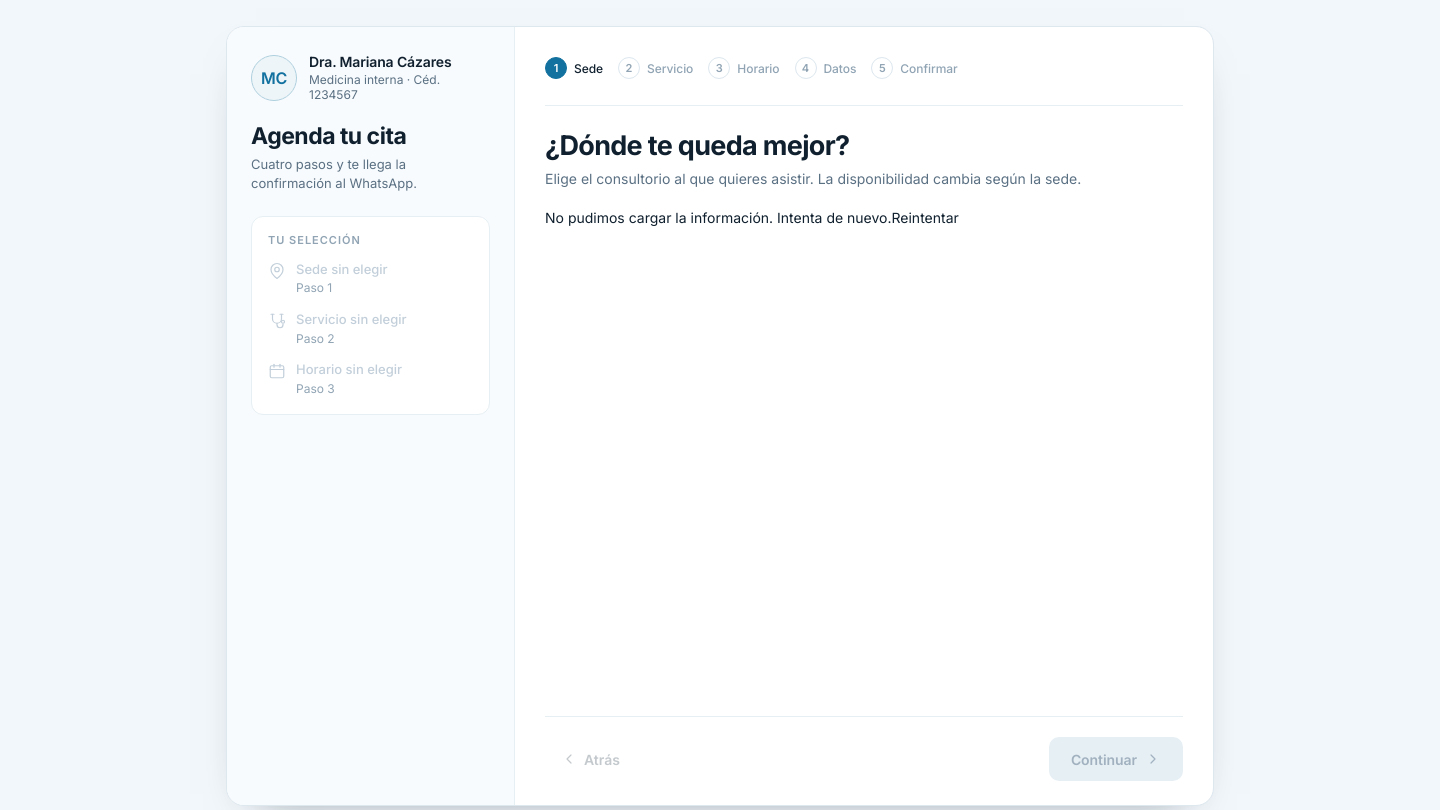
Test: BookingFlow › keeps selection empty after a load error and applies the default after retry
The image size is (1440, 810).
Expected: the message "No pudimos cargar la información. Intenta de nuevo. Reintentar" is shown, [545,209,959,226]
Expected: the button "Continuar" is disabled, [1049,737,1183,781]
Click the button "Reintentar": point(925, 218) [892,209,959,226]
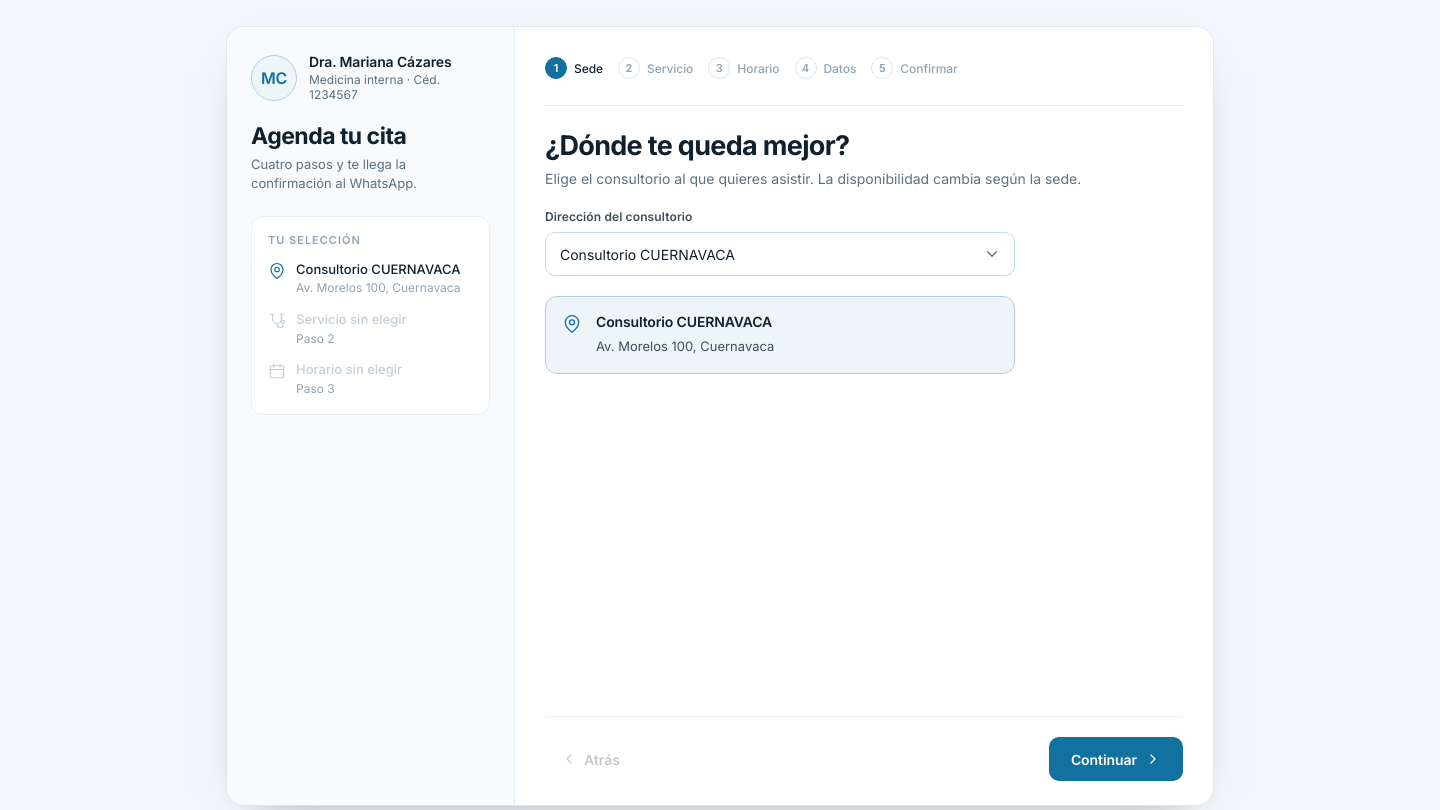
Result: the dropdown shows "Consultorio CUERNAVACA" at [545,232,1015,276]
